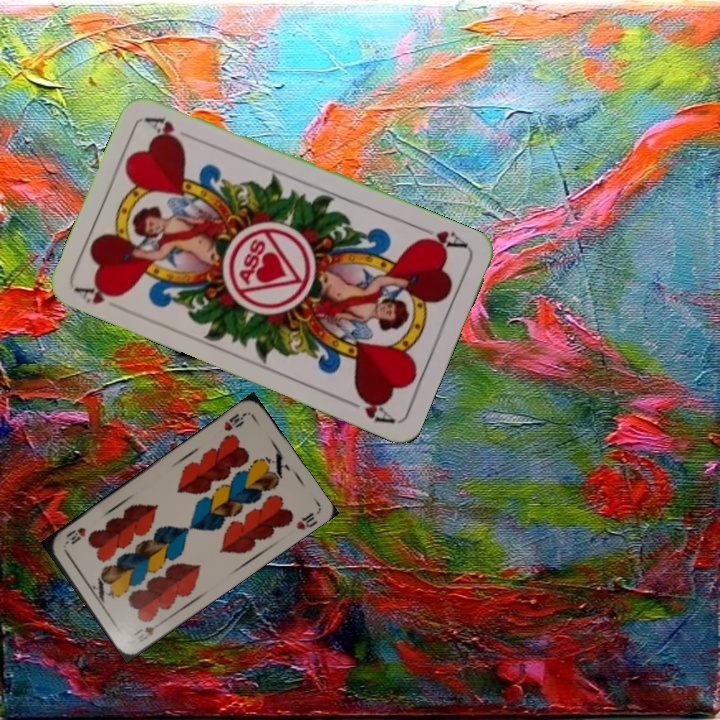H10: (220, 409, 249, 434), (129, 622, 157, 645)
HA: (413, 222, 470, 254), (72, 279, 125, 307)
